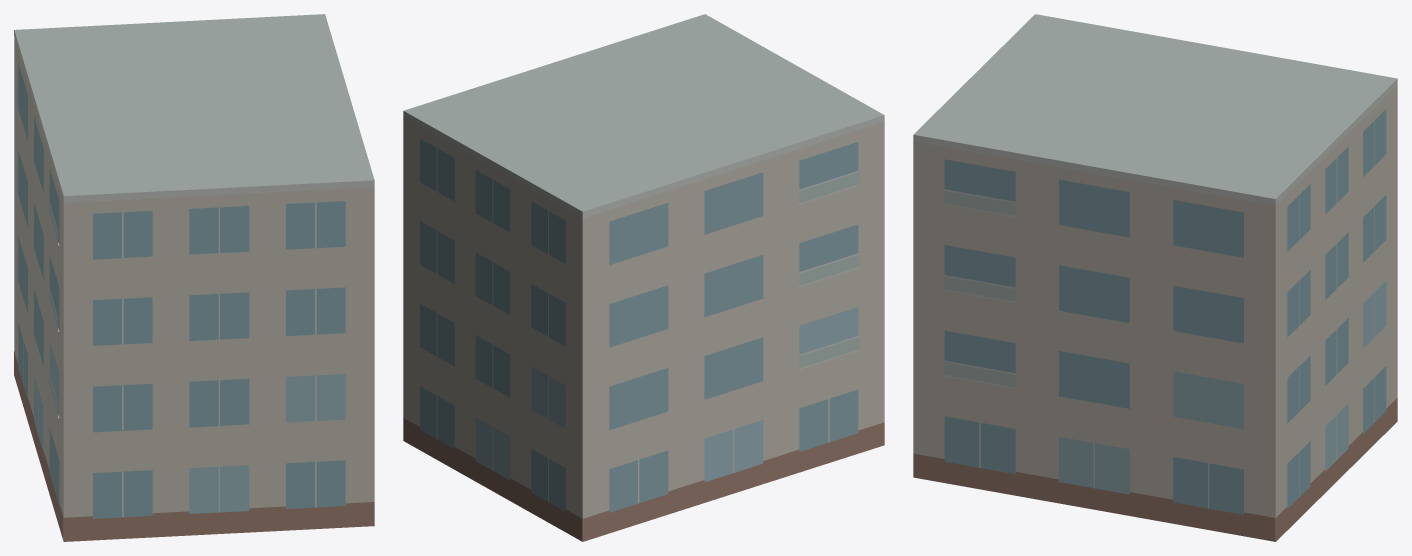
Rendered from survey-upis-32653504.glb.
The picture shows the model from 3 angles, left to right: view 1: azimuth 30°, elevation 25°; view 2: azimuth 150°, elevation 25°; view 3: azimuth 270°, elevation 25°; orthographic projection. The views are drawn at different scales.
Parts seen in each view (by area): view 1: survey-upis-32653504.tmp; view 2: survey-upis-32653504.tmp; view 3: survey-upis-32653504.tmp.
Part boxes in pixels (x1=…): survey-upis-32653504.tmp: x1=14, y1=14, x2=374, y2=541; survey-upis-32653504.tmp: x1=403, y1=14, x2=884, y2=541; survey-upis-32653504.tmp: x1=913, y1=14, x2=1397, y2=541.
Bounding box in the file's own units: 14.37 × 12.4 × 15.89.
